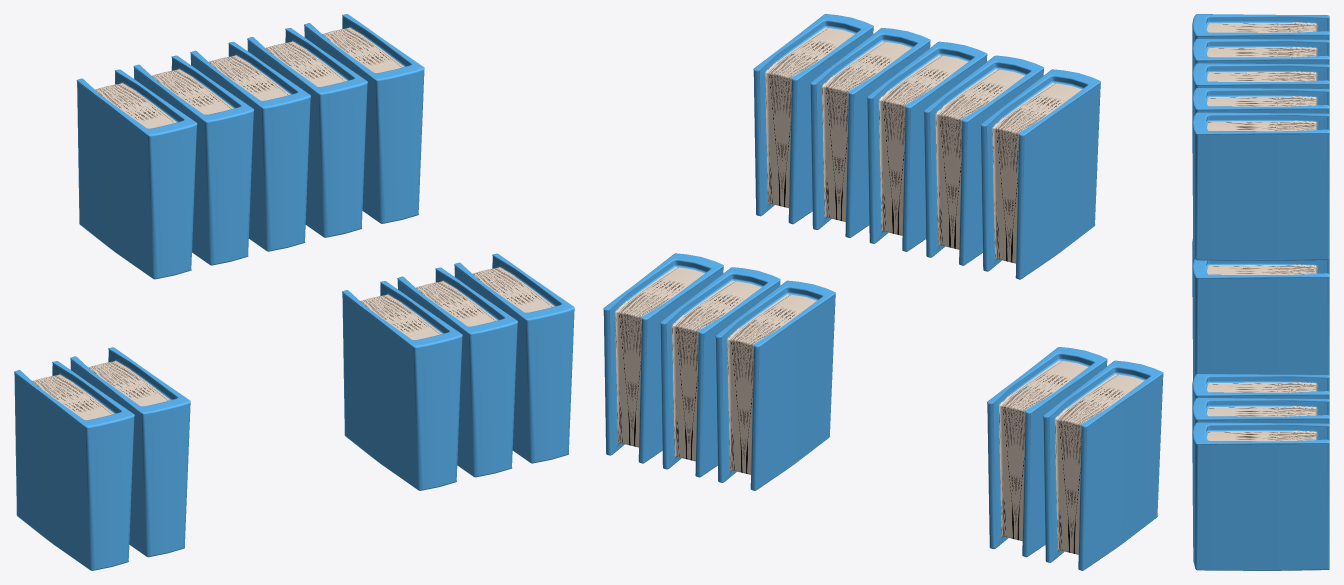
Rendered from Farmhouse_ROOM_books_v01.glb.
3 renders of one model, left to right at view 1: azimuth 30°, elevation 25°; view 2: azimuth 150°, elevation 25°; view 3: azimuth 270°, elevation 25°, orthographic. The views are drawn at different scales.
Parts seen in each view (by area): view 1: Farmhouse_ROOM_books_v01; view 2: Farmhouse_ROOM_books_v01; view 3: Farmhouse_ROOM_books_v01.
Part boxes in pixels (x1=…): Farmhouse_ROOM_books_v01: x1=14, y1=14, x2=574, y2=570; Farmhouse_ROOM_books_v01: x1=603, y1=14, x2=1163, y2=570; Farmhouse_ROOM_books_v01: x1=1192, y1=14, x2=1329, y2=570.
Size of the model in its own units: 1.37 by 1.13 by 0.3755.
2 materials, 1 textured.
